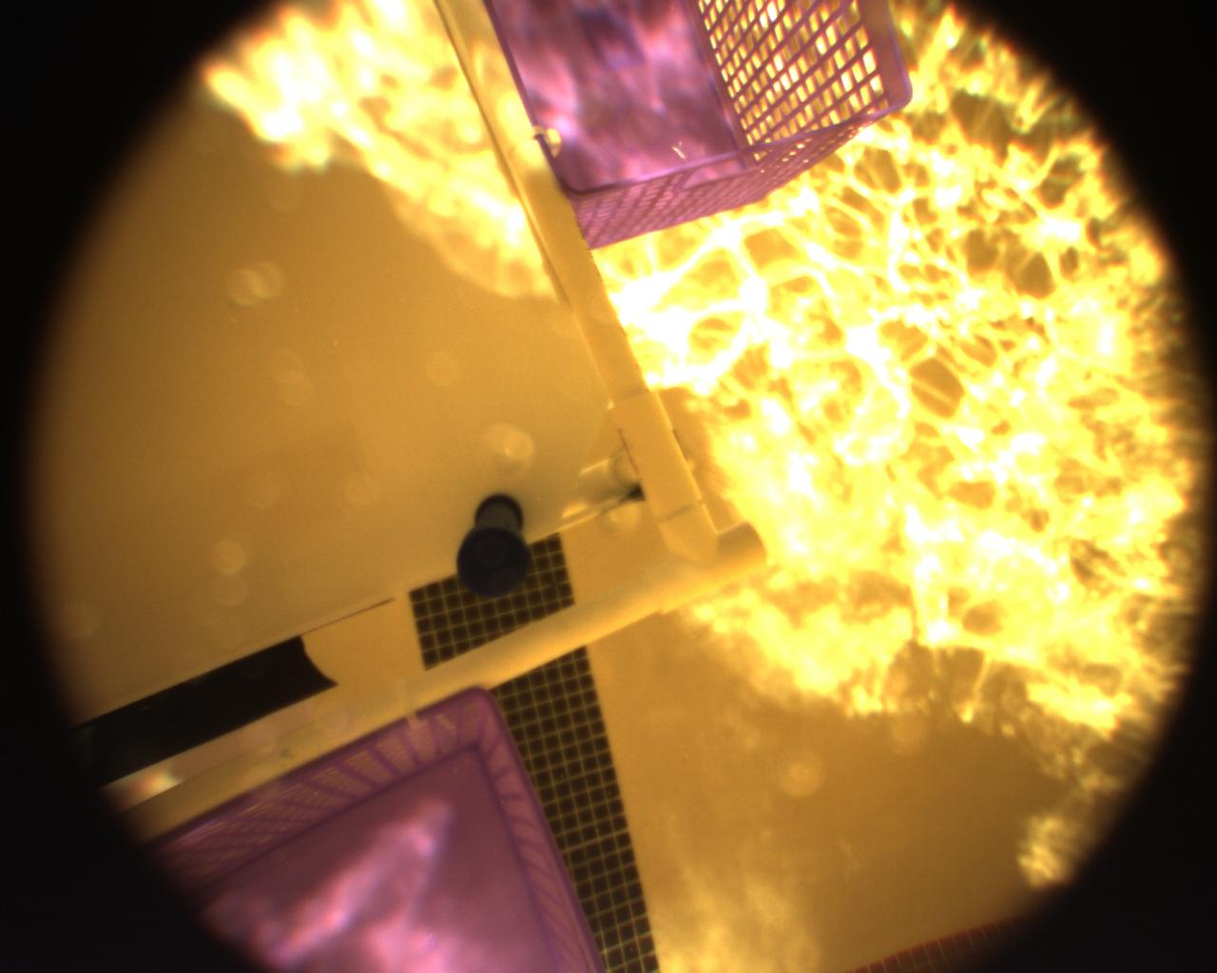coral: (444, 476, 544, 601)
coral-box-top: (0, 0, 702, 694)
